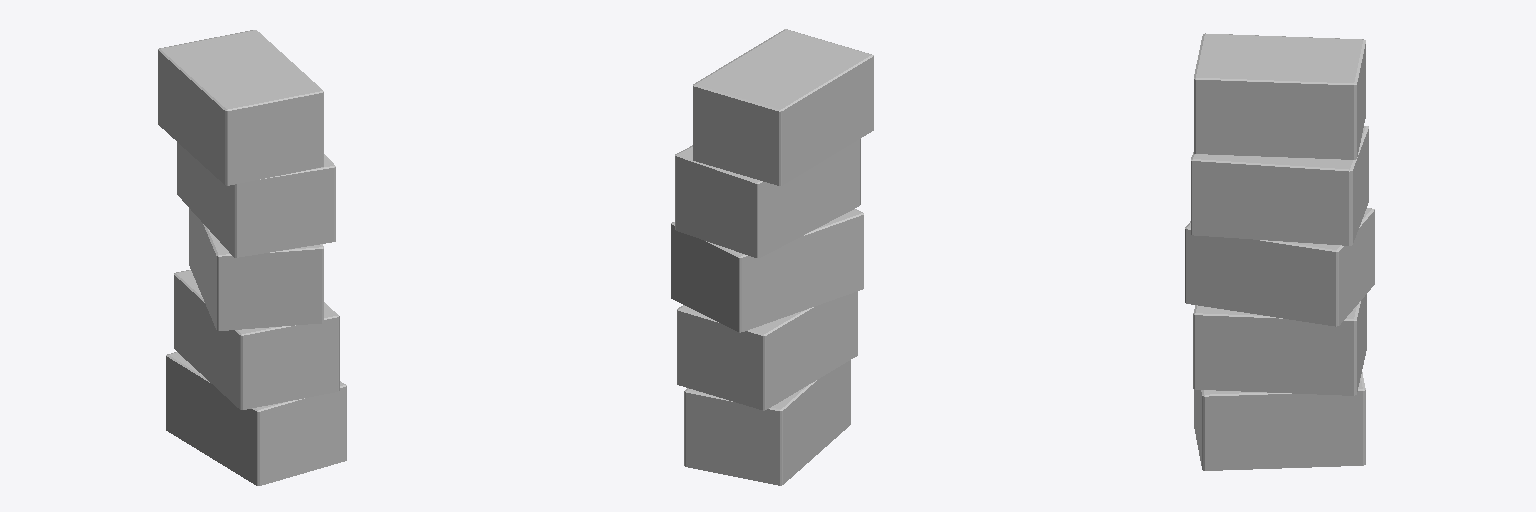
File: monton de cajas 3.obj
3 views of the same model, side by side, from view 1: azimuth 30°, elevation 25°; view 2: azimuth 150°, elevation 25°; view 3: azimuth 270°, elevation 25° (orthographic).
Parts seen in each view (by area): view 1: CAJA_BASE, 5, 4, 2, 3; view 2: CAJA_BASE, 3, 4, 2, 5; view 3: CAJA_BASE, 2, 3, 4, 5.
Boxes of the visible parts, x1=… form: CAJA_BASE: x1=158, y1=30, x2=323, y2=185; 5: x1=166, y1=352, x2=346, y2=485; 4: x1=174, y1=270, x2=339, y2=409; 2: x1=177, y1=142, x2=335, y2=257; 3: x1=189, y1=208, x2=323, y2=330; CAJA_BASE: x1=693, y1=29, x2=873, y2=185; 3: x1=671, y1=209, x2=863, y2=332; 4: x1=677, y1=291, x2=857, y2=410; 2: x1=675, y1=139, x2=860, y2=257; 5: x1=684, y1=360, x2=850, y2=485; CAJA_BASE: x1=1194, y1=33, x2=1365, y2=159; 2: x1=1191, y1=126, x2=1368, y2=245; 3: x1=1185, y1=208, x2=1374, y2=326; 4: x1=1193, y1=294, x2=1366, y2=395; 5: x1=1194, y1=372, x2=1365, y2=470.
Bounding box in the file's own units: 3.84 × 10.2 × 4.62.